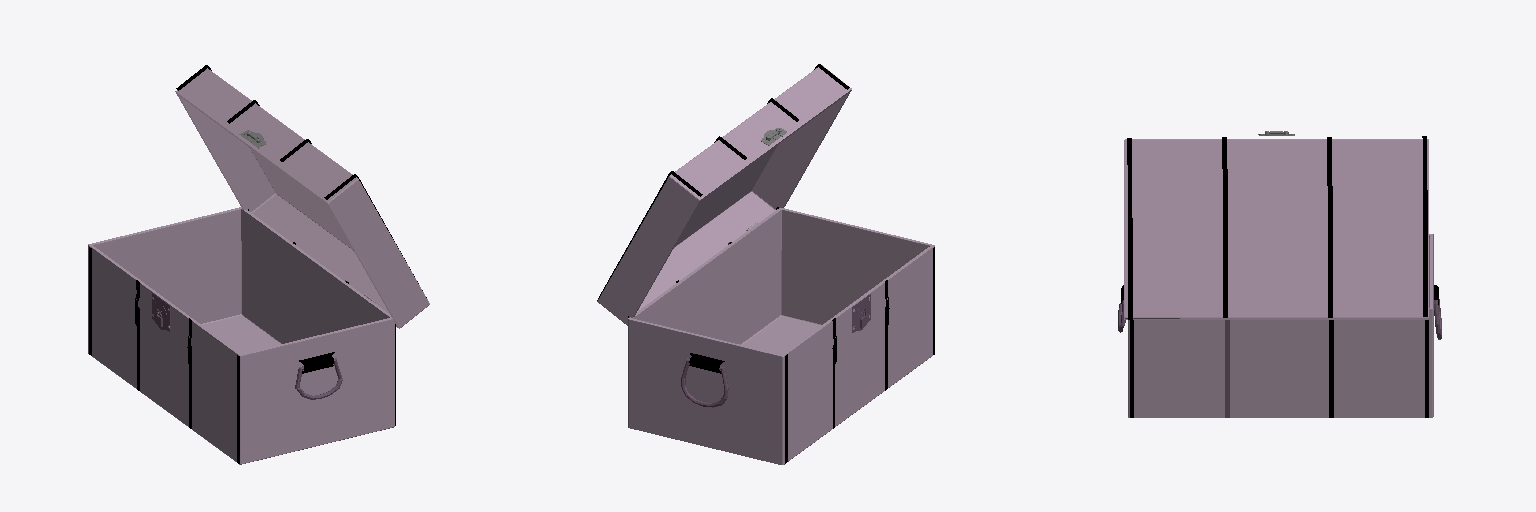
The picture shows the model from 3 angles: view 1: azimuth 30°, elevation 25°; view 2: azimuth 150°, elevation 25°; view 3: azimuth 270°, elevation 25°; orthographic projection.
Parts seen in each view (by area): view 1: polySurface81; view 2: polySurface81; view 3: polySurface81.
Boxes of the visible parts, <box> form: polySurface81: <box>88,65,429,464</box>; polySurface81: <box>597,64,934,464</box>; polySurface81: <box>1118,131,1441,417</box>.
Size of the model in its own units: 1.5 by 1.94 by 2.17.
4 materials, 2 textured.